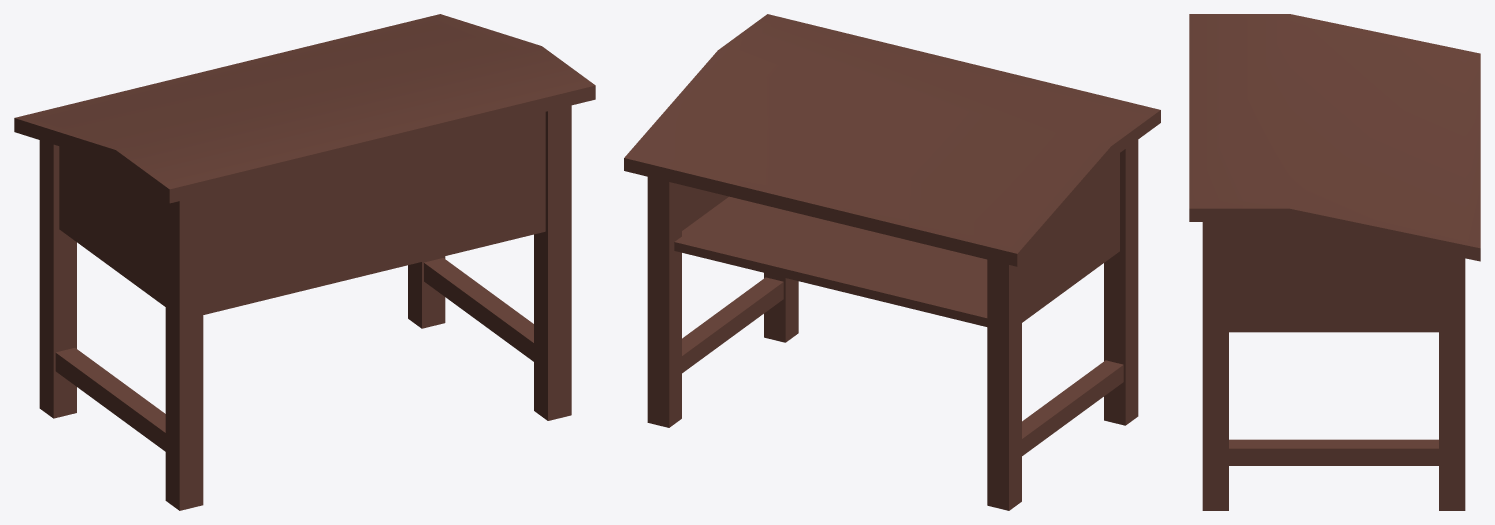
Rendered from Desk.fbx.
3 views of the same model, side by side, from view 1: azimuth 30°, elevation 25°; view 2: azimuth 150°, elevation 25°; view 3: azimuth 270°, elevation 25° (orthographic). The views are drawn at different scales.
Visible parts, largest first — view 1: Desk; view 2: Desk; view 3: Desk.
Boxes of the visible parts, x1,y1,x2,y2 form: Desk: (14,14,595,510); Desk: (624,14,1160,510); Desk: (1189,14,1480,510).
Size of the model in its own units: 95 by 70.5 by 60.
1 material, 1 textured.
